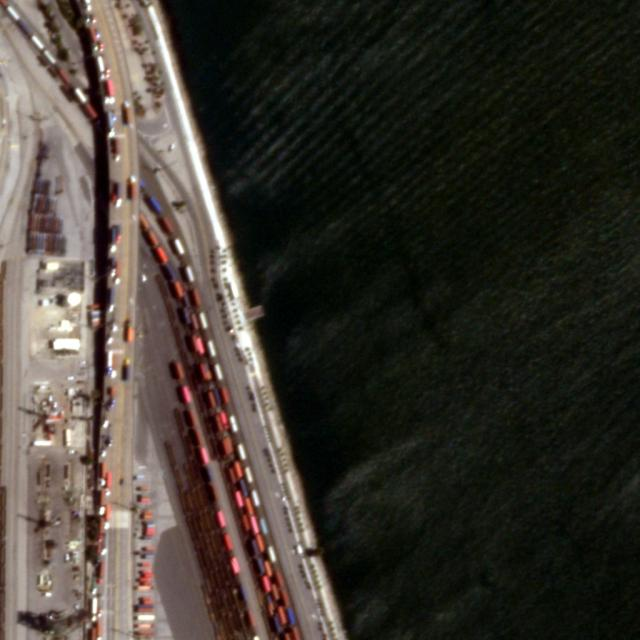water: (160, 0, 638, 638)
